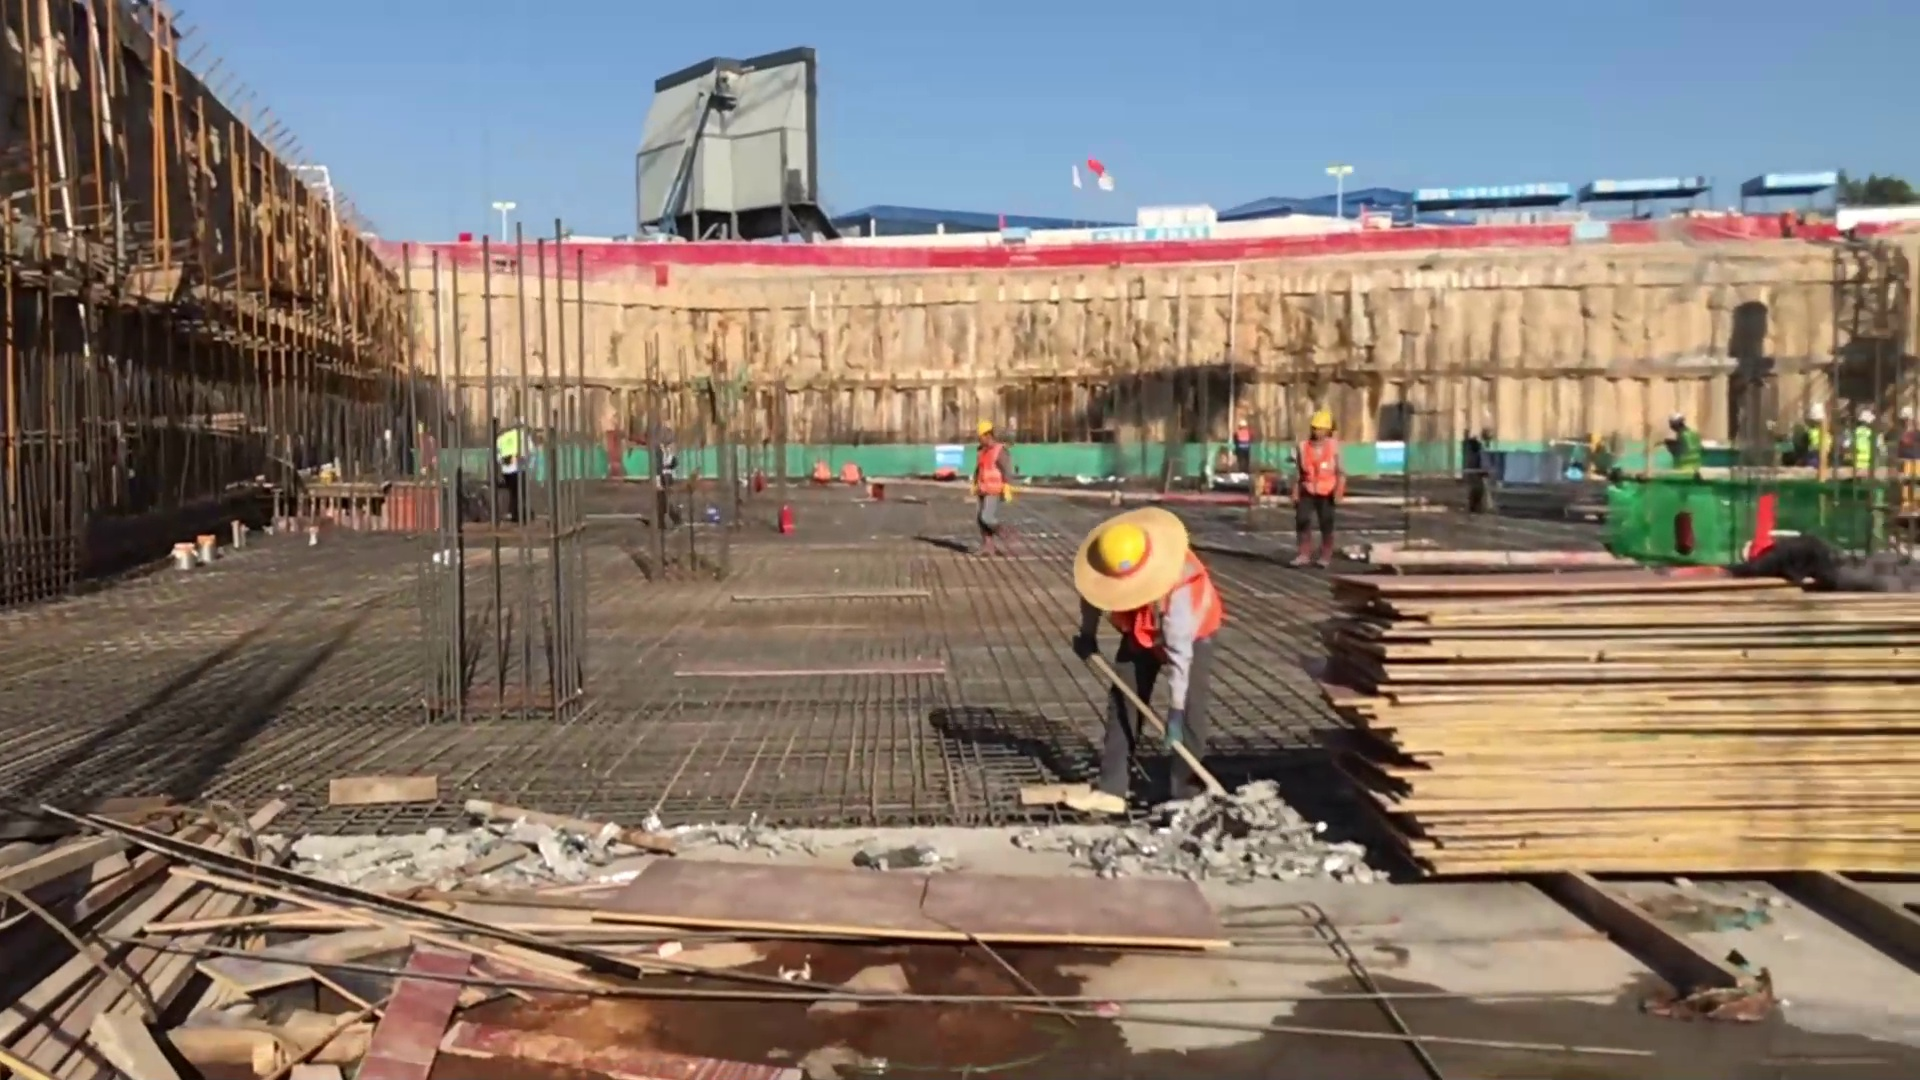helmet: (1093, 530, 1150, 574), (1311, 412, 1332, 427)
person: (1067, 511, 1202, 808), (1297, 407, 1350, 574), (966, 420, 1019, 564), (497, 414, 538, 521), (1662, 412, 1706, 474), (1800, 402, 1831, 475), (1850, 410, 1885, 465), (1235, 410, 1255, 480)
vest: (1300, 444, 1347, 502), (974, 446, 1012, 497)
